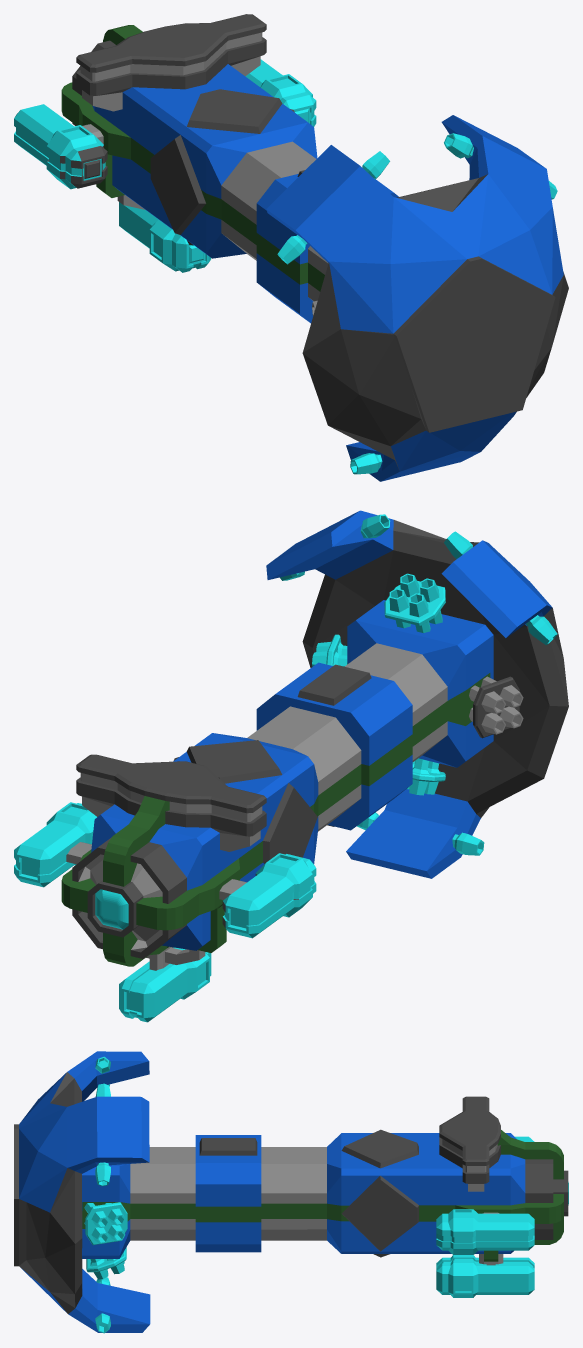
The model's file is Ship.fbx.
3 renders of one model, top to bottom at view 1: azimuth 30°, elevation 25°; view 2: azimuth 150°, elevation 25°; view 3: azimuth 270°, elevation 25°, orthographic. The views are drawn at different scales.
Visible parts, largest first — view 1: Shield, Ship, ShieldHornRight, MEngine-Right, ShieldHornLeft, MEngine-Bot, ShieldHornBot, MEngine-Left, MAEngine-Right-Top, SEngine-Right, MAEngine-Bot-Right, MAEngine-Left-Top (+1 smaller); view 2: Ship, Shield, ShieldHornBot, ShieldHornRight, ShieldHornLeft, MEngine-Right, MEngine-Left, MEngine-Bot, AEngine-Top, AEngine-Right, SEngine-Right, AEngine-Bot (+6 smaller); view 3: Ship, Shield, ShieldHornLeft, MEngine-Left, ShieldHornBot, MEngine-Bot, ShieldHornRight, AEngine-Left, MAEngine-Bot-Left, AEngine-Bot, MAEngine-Left-Top, SEngine-Left.
Boxes of the visible parts, <box> form: Shield: <box>302,174,568,471</box>; Ship: <box>61,14,398,323</box>; ShieldHornRight: <box>266,145,393,262</box>; MEngine-Right: <box>14,104,107,188</box>; ShieldHornLeft: <box>441,115,552,206</box>; MEngine-Bot: <box>119,202,211,272</box>; ShieldHornBot: <box>346,442,479,481</box>; MEngine-Left: <box>245,59,316,126</box>; MAEngine-Right-Top: <box>47,125,103,155</box>; SEngine-Right: <box>277,151,389,264</box>; MAEngine-Bot-Right: <box>149,219,176,271</box>; MAEngine-Left-Top: <box>260,74,312,99</box>; Ship: <box>61,600,493,970</box>; Shield: <box>302,520,568,817</box>; ShieldHornBot: <box>346,789,480,878</box>; ShieldHornRight: <box>441,540,552,637</box>; ShieldHornLeft: <box>266,510,393,579</box>; MEngine-Right: <box>222,854,316,938</box>; MEngine-Left: <box>14,803,93,887</box>; MEngine-Bot: <box>119,947,211,1022</box>; AEngine-Top: <box>384,573,445,632</box>; AEngine-Right: <box>469,676,523,738</box>; SEngine-Right: <box>444,531,557,644</box>; AEngine-Bot: <box>407,758,445,795</box>; Ship: <box>82,1096,568,1265</box>; Shield: <box>14,1072,82,1313</box>; ShieldHornLeft: <box>67,1096,149,1173</box>; MEngine-Left: <box>436,1213,534,1250</box>; ShieldHornBot: <box>68,1269,150,1332</box>; MEngine-Bot: <box>436,1255,534,1294</box>; ShieldHornRight: <box>67,1051,149,1101</box>; AEngine-Left: <box>84,1202,127,1245</box>; MAEngine-Bot-Left: <box>448,1263,478,1297</box>; AEngine-Bot: <box>86,1247,126,1279</box>; MAEngine-Left-Top: <box>448,1209,478,1231</box>; SEngine-Left: <box>95,1083,110,1186</box>.
Bounding box in the file's own units: 4.92 × 5.54 × 11.24.
